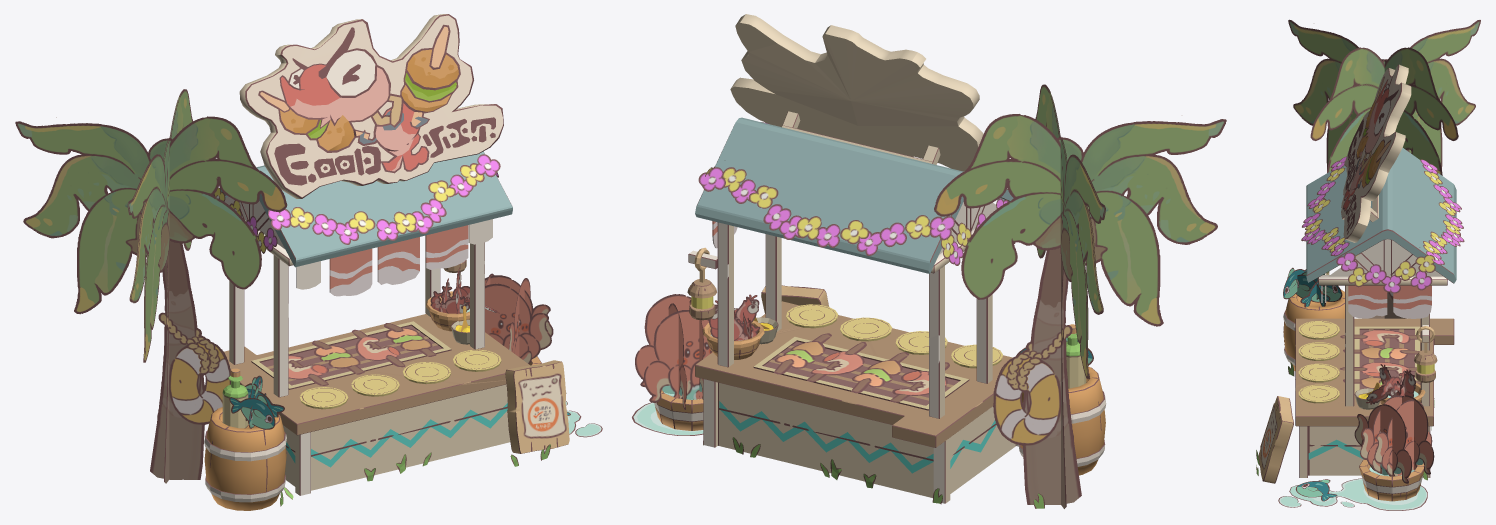
The model's file is Mesh_Home_BH_BBQ_SM.fbx.
3 renders of one model, left to right at view 1: azimuth 30°, elevation 25°; view 2: azimuth 150°, elevation 25°; view 3: azimuth 270°, elevation 25°, orthographic. The views are drawn at different scales.
Visible parts, largest first — view 1: Mesh_Home_BH_BBQ, Mesh_Home_BH_BBQ_P; view 2: Mesh_Home_BH_BBQ, Mesh_Home_BH_BBQ_P; view 3: Mesh_Home_BH_BBQ, Mesh_Home_BH_BBQ_P.
Part boxes in pixels (x1,y1,x2,y2): Mesh_Home_BH_BBQ: [204, 14, 602, 510]; Mesh_Home_BH_BBQ_P: [15, 89, 567, 483]; Mesh_Home_BH_BBQ: [632, 14, 1106, 508]; Mesh_Home_BH_BBQ_P: [635, 84, 1226, 508]; Mesh_Home_BH_BBQ: [1256, 64, 1456, 510]; Mesh_Home_BH_BBQ_P: [1260, 19, 1480, 483].
Bounding box in the file's own units: 349 × 280 × 165.
